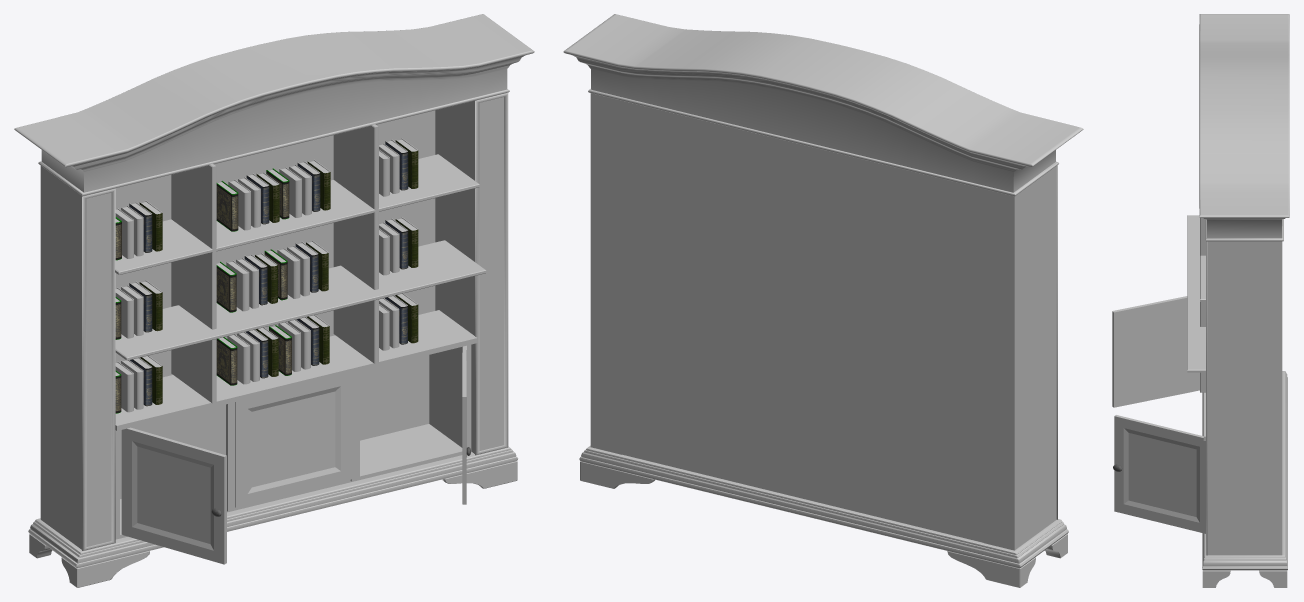
Rendered from objeto_03.obj.
3 views of the same model, side by side, from view 1: azimuth 30°, elevation 25°; view 2: azimuth 150°, elevation 25°; view 3: azimuth 270°, elevation 25° (orthographic). The views are drawn at different scales.
Visible parts, largest first — view 1: objeto03_librero2:group7_pasted__polySurface93, objeto03_librero2:polySurface50, objeto03_librero2:polySurface51; view 2: objeto03_librero2:group7_pasted__polySurface93; view 3: objeto03_librero2:group7_pasted__polySurface93, objeto03_librero2:polySurface51, objeto03_librero2:polySurface50.
Part boxes in pixels (bbox=[...]): objeto03_librero2:group7_pasted__polySurface93: bbox=[14, 14, 534, 587]; objeto03_librero2:polySurface50: bbox=[121, 427, 226, 564]; objeto03_librero2:polySurface51: bbox=[462, 345, 470, 504]; objeto03_librero2:group7_pasted__polySurface93: bbox=[563, 14, 1083, 587]; objeto03_librero2:group7_pasted__polySurface93: bbox=[1187, 14, 1289, 587]; objeto03_librero2:polySurface51: bbox=[1113, 415, 1205, 533]; objeto03_librero2:polySurface50: bbox=[1112, 296, 1199, 407].
Size of the model in its own units: 11.22 by 10.31 by 4.15.
